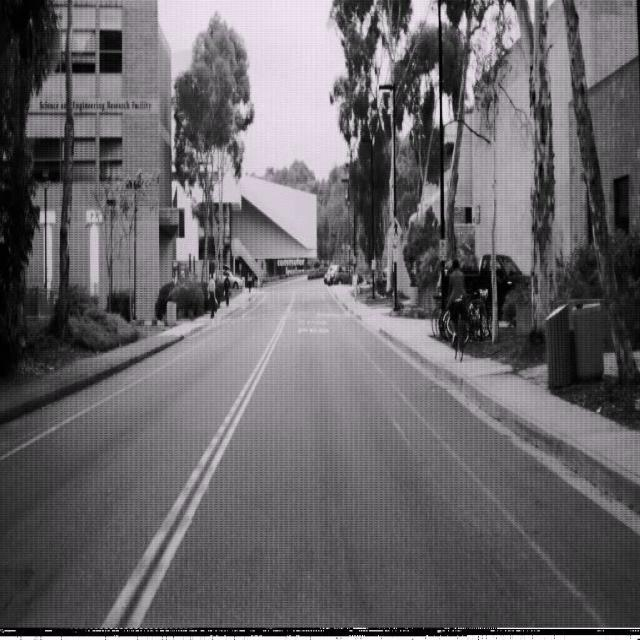pedestrianCrossing: (387, 215, 402, 245)
